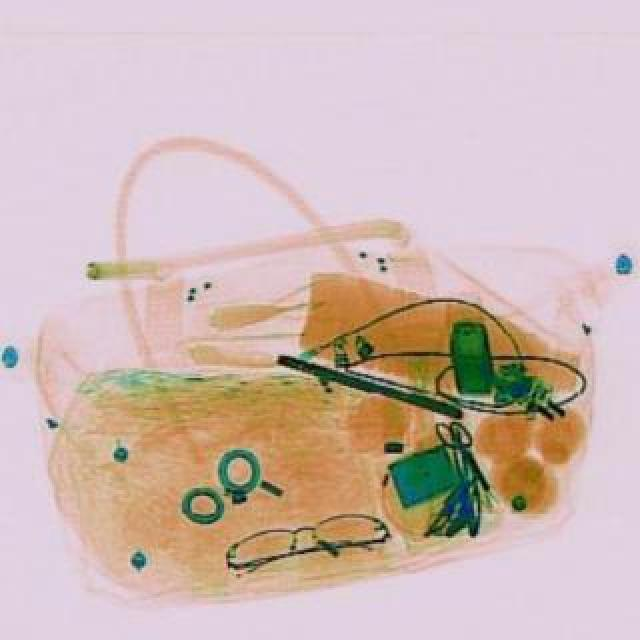pliers: (430, 408, 504, 496)
